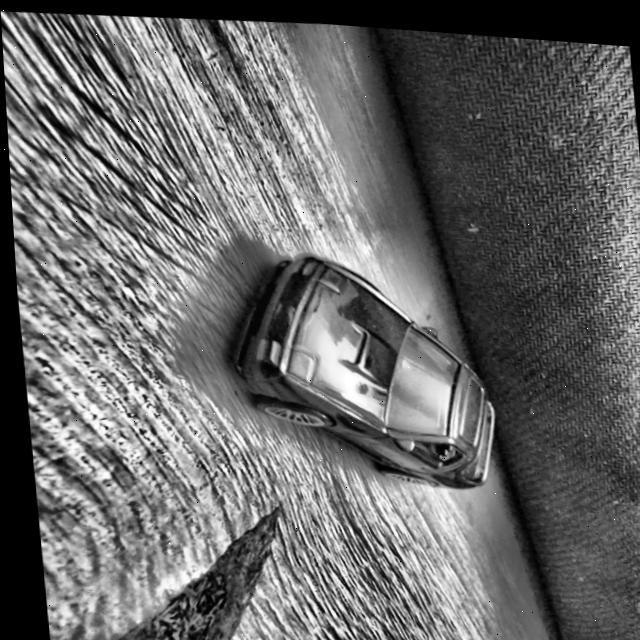car: (216, 239, 497, 492)
